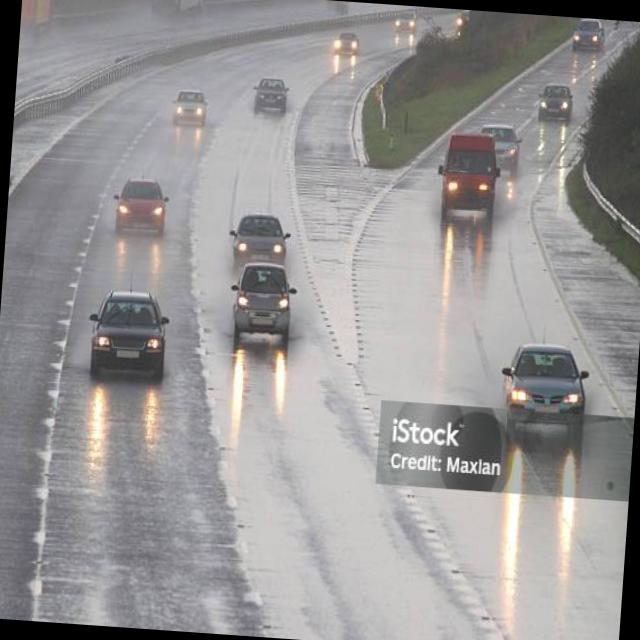Vehicle: (82, 269, 186, 396), (215, 266, 306, 381), (498, 336, 598, 428), (92, 162, 193, 246), (432, 116, 500, 236), (216, 196, 312, 268), (163, 81, 212, 136), (536, 77, 584, 125), (562, 17, 614, 58), (250, 78, 294, 126), (322, 26, 362, 70), (502, 122, 526, 180), (385, 11, 421, 40)
